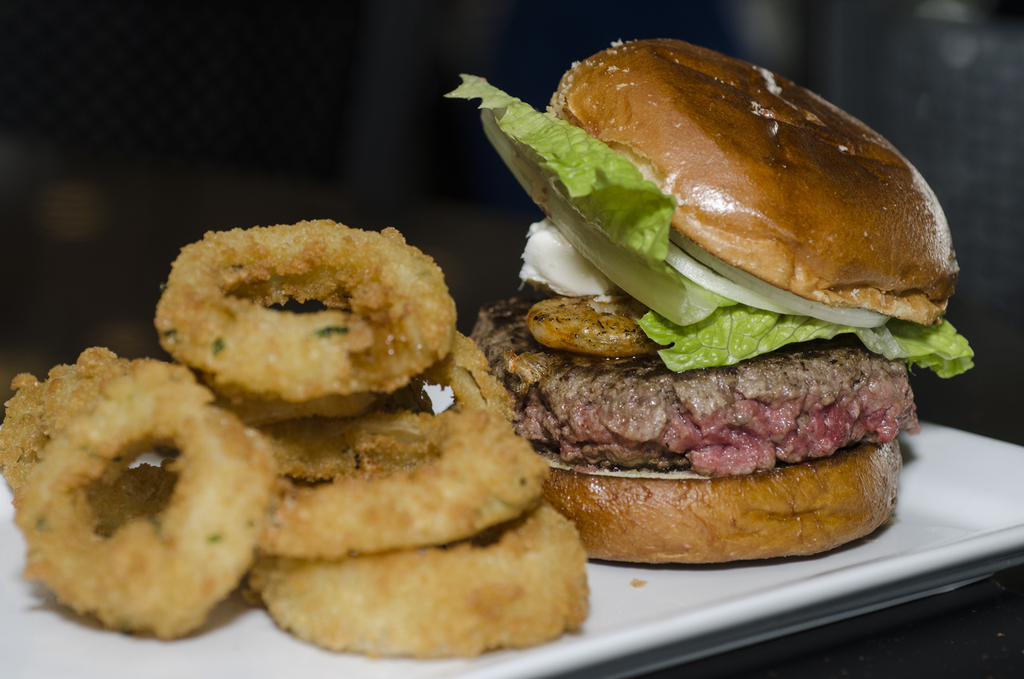Hamburger: (441, 36, 975, 566), (443, 40, 977, 562)
